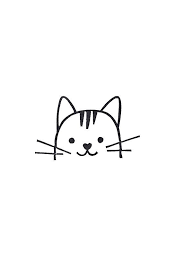cat: (28, 94, 152, 175)
